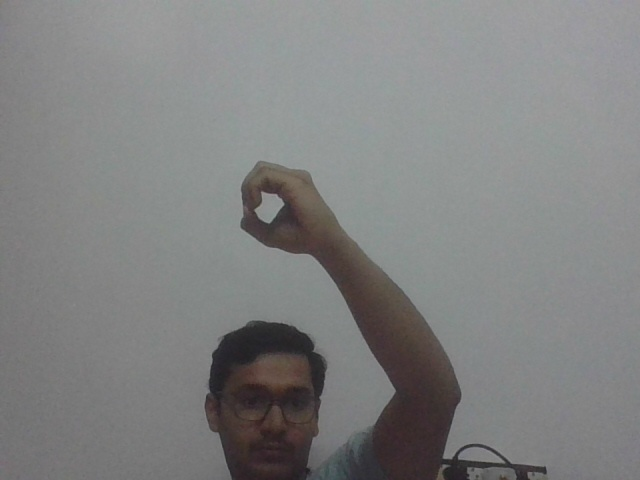O: (239, 154, 334, 264)
